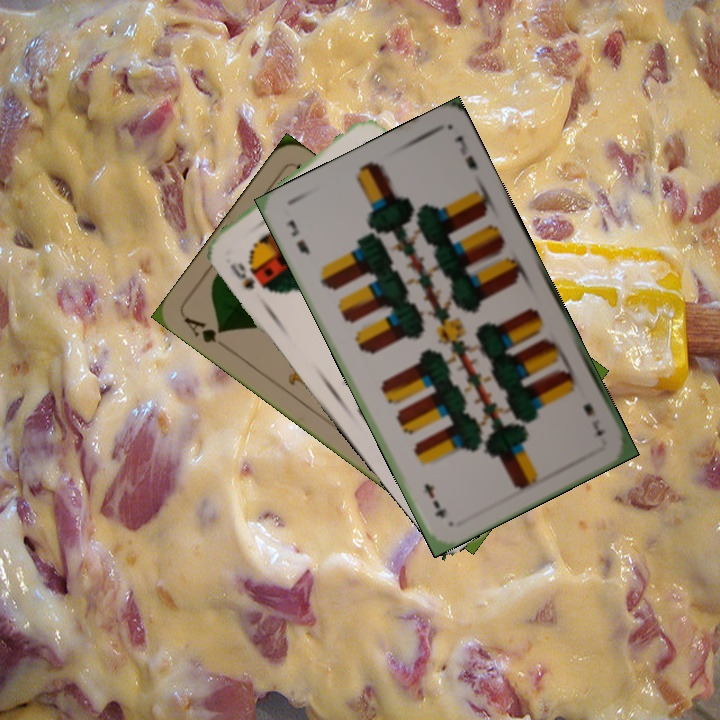E7: (283, 216, 313, 258), (579, 399, 608, 439)
GA: (180, 313, 228, 346)
SO: (225, 258, 267, 292)
